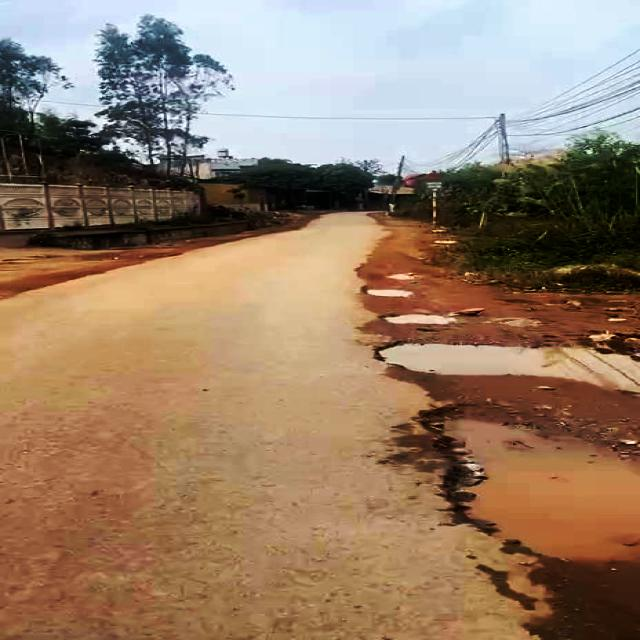pothole: (408, 397, 640, 579), (375, 335, 640, 398), (378, 307, 461, 331)
